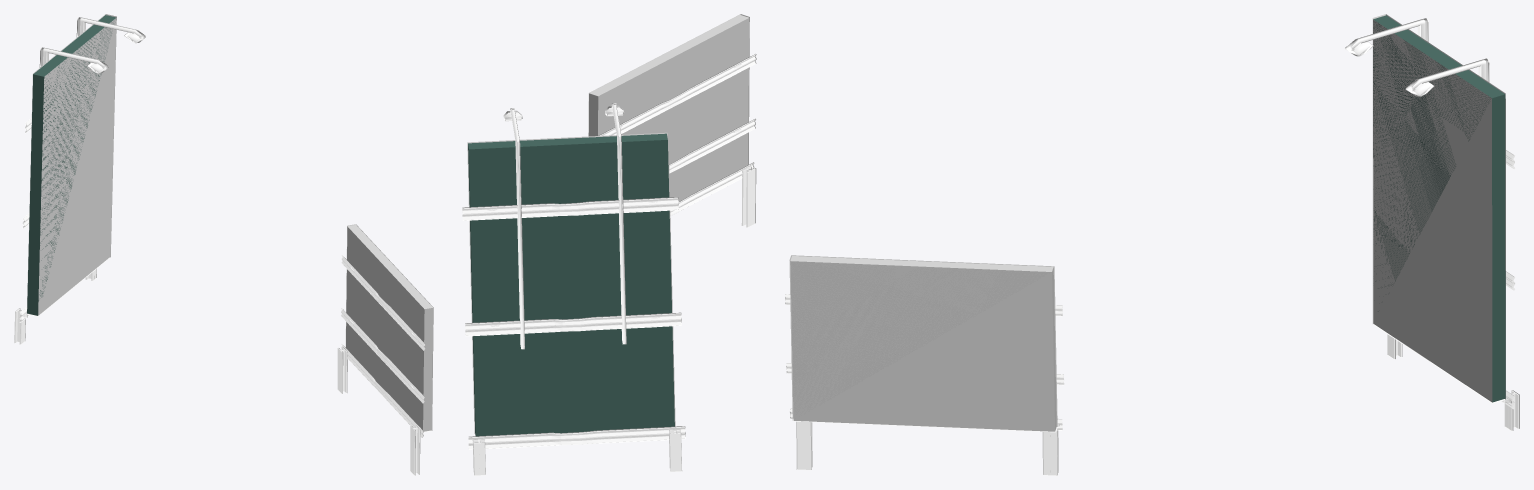
The model's file is welcome_sign.glb.
3 renders of one model, left to right at view 1: azimuth 30°, elevation 25°; view 2: azimuth 150°, elevation 25°; view 3: azimuth 270°, elevation 25°, orthographic. The views are drawn at different scales.
Parts seen in each view (by area): view 1: Cube.175, Cube.163, Cube border, terrain.006, terrain.009, terrain.008, Cube.173, Cube border.002, terrain.018; view 2: Cube.175, Cube.163, terrain.018, terrain.017, terrain.016, terrain.006, terrain.009, Cube border.002, Cube.173, Cube border, terrain.008, Cube border.001; view 3: Cube.163, Cube.175, Cube border, Cube border.001, terrain.006, Cube border.002, Cube.173, terrain.018.
Part boxes in pixels (left/top/right/bottom): Cube.175: left=27, top=15, right=116, bottom=315; Cube.163: left=346, top=225, right=433, bottom=431; Cube border: left=26, top=14, right=116, bottom=316; terrain.006: left=337, top=344, right=423, bottom=475; terrain.009: left=341, top=255, right=425, bottom=350; terrain.008: left=341, top=308, right=424, bottom=403; Cube.173: left=39, top=47, right=108, bottom=73; Cube border.002: left=76, top=17, right=145, bottom=43; terrain.018: left=14, top=269, right=96, bottom=344; Cube.175: left=468, top=133, right=674, bottom=436; Cube.163: left=588, top=15, right=749, bottom=201; terrain.018: left=468, top=426, right=685, bottom=475; terrain.017: left=462, top=197, right=678, bottom=220; terrain.016: left=465, top=312, right=681, bottom=336; terrain.006: left=670, top=162, right=756, bottom=227; terrain.009: left=598, top=54, right=756, bottom=135; Cube border.002: left=503, top=108, right=524, bottom=349; Cube.173: left=605, top=103, right=626, bottom=344; Cube border: left=467, top=132, right=675, bottom=436; terrain.008: left=669, top=118, right=755, bottom=173; Cube border.001: left=588, top=14, right=749, bottom=164; Cube.163: left=790, top=256, right=1056, bottom=431; Cube.175: left=1373, top=15, right=1505, bottom=402; Cube border: left=1372, top=14, right=1505, bottom=403; Cube border.001: left=789, top=255, right=1057, bottom=432; terrain.006: left=790, top=408, right=1062, bottom=475; Cube border.002: left=1405, top=58, right=1489, bottom=96; Cube.173: left=1345, top=18, right=1428, bottom=56; terrain.018: left=1387, top=334, right=1519, bottom=431.
Bounding box in the file's own units: 4.71 × 6.05 × 11.03.
